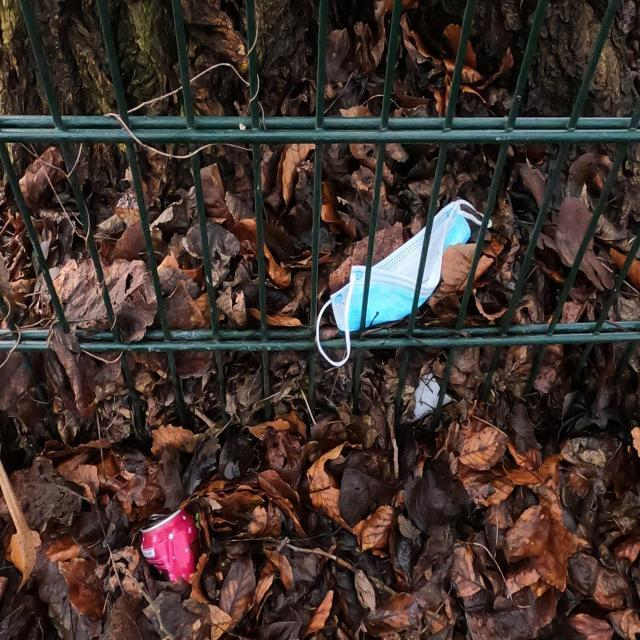Can-Metal: (140, 500, 202, 604)
Mask: (313, 193, 496, 368)
Plastic: (115, 182, 145, 227)
